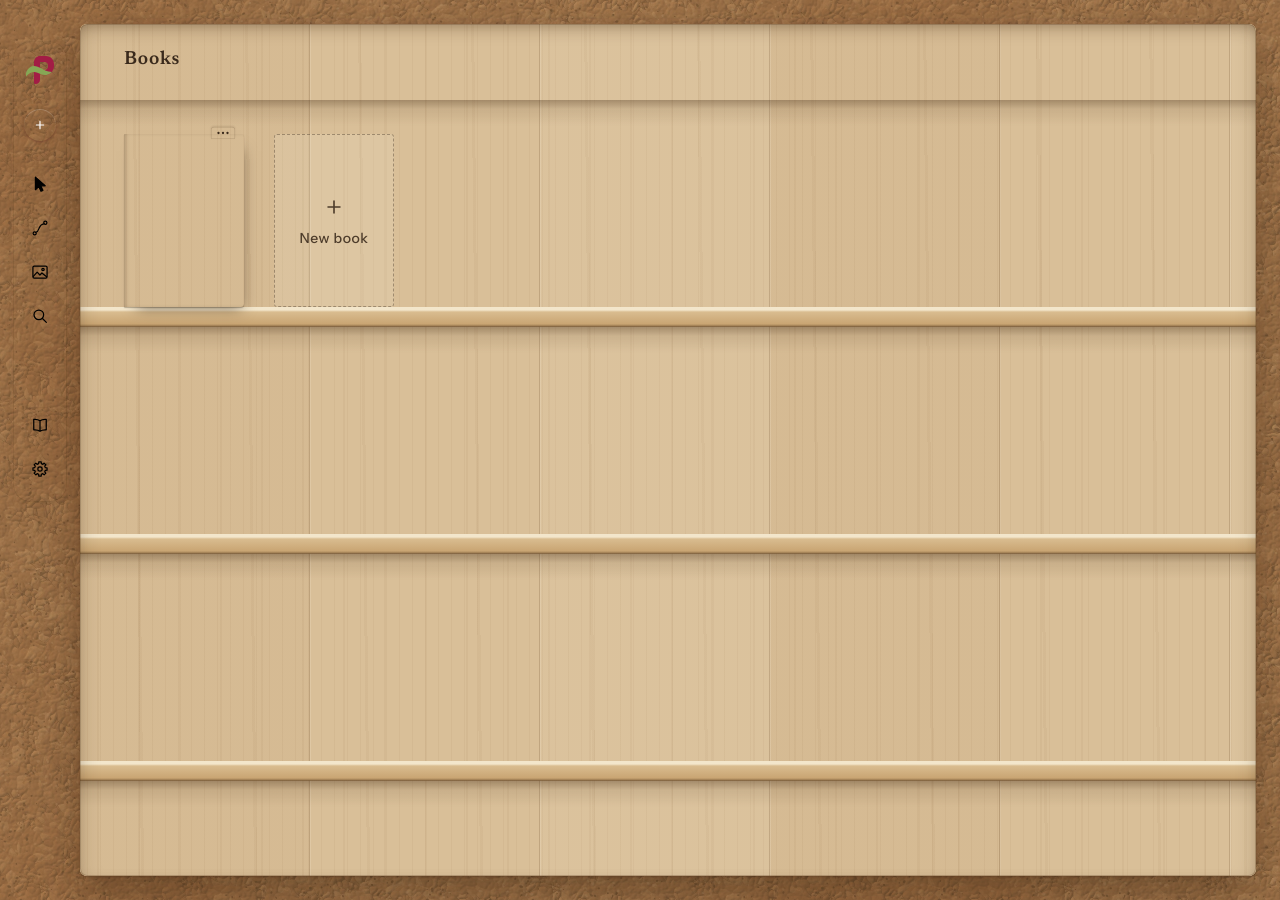
the shelf › the popover's Rename opens the book with its title selected; New cover and Language change the book
Later steps or results of the test are not shown.
Click the button named "Options for Field notes" at (222, 117), box [200,95,244,139]
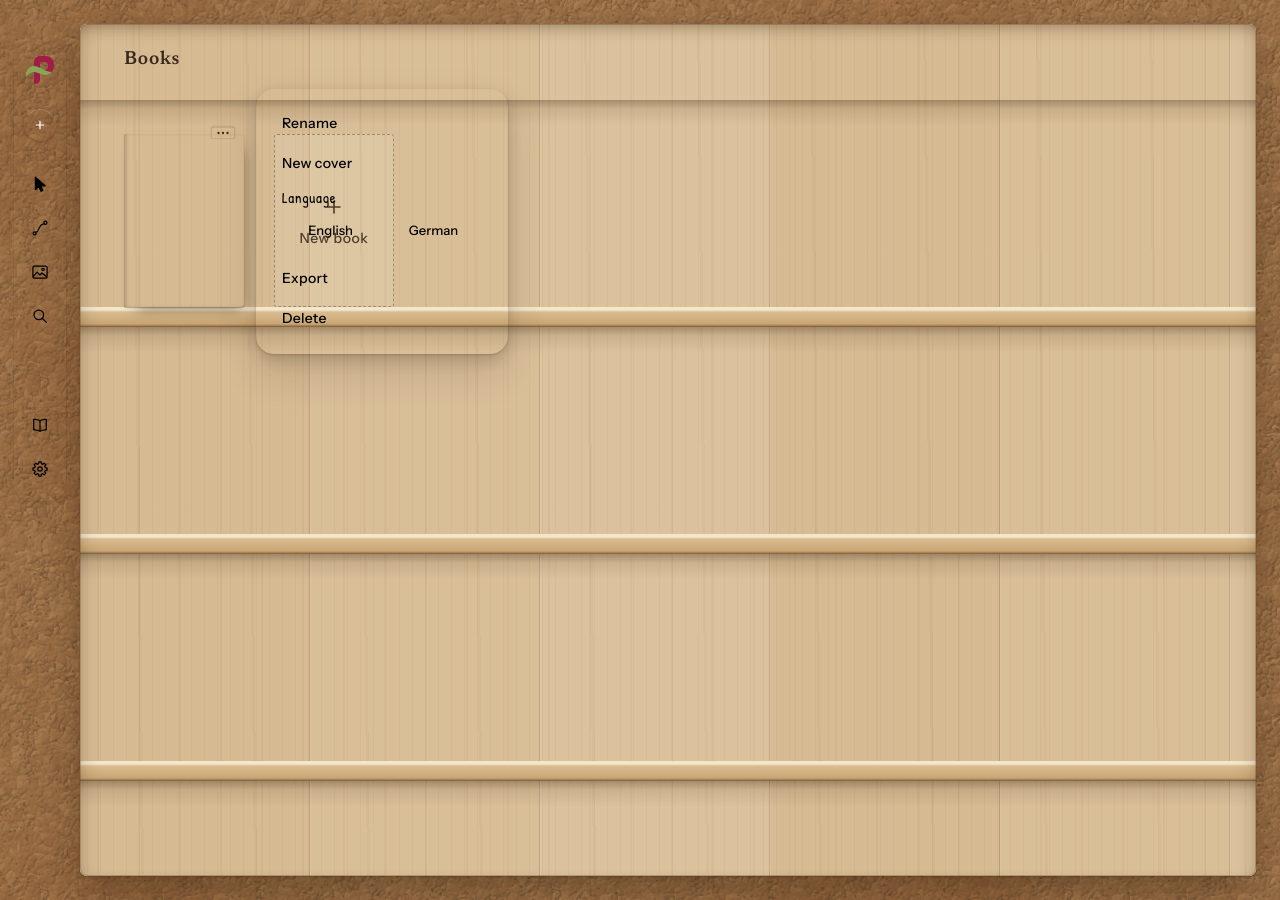
Click the button "New cover" at (382, 163), box [272,143,492,183]
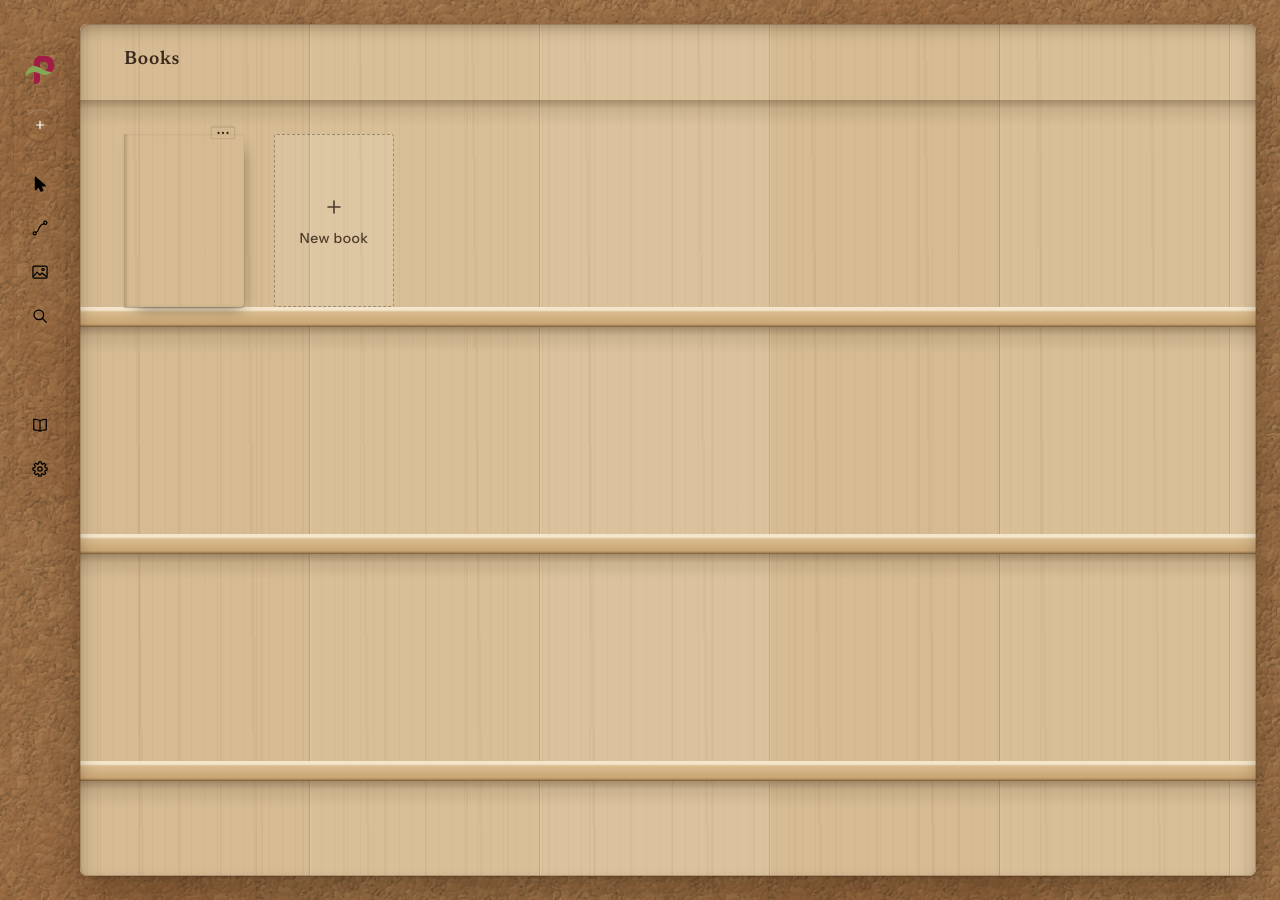
Click the button named "Options for Field notes" at (222, 117), box [200,95,244,139]
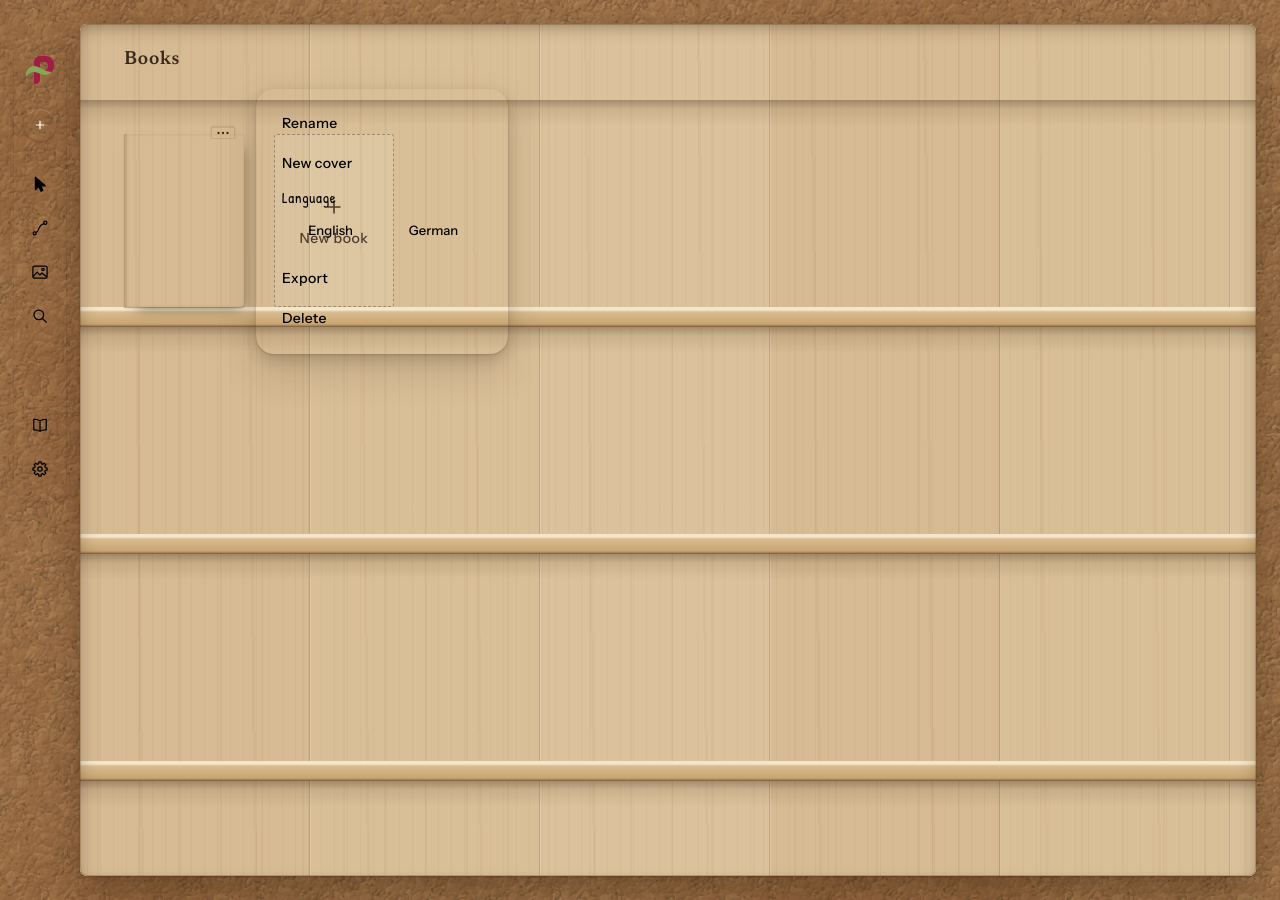
Click the radio button labelled "German" at (434, 230), box [385,212,482,248]
Right-click the button named "Field notes" at (184, 220), box [124,134,244,307]
Now the dialog named "Field notes" is shown, box [256,89,508,354]
